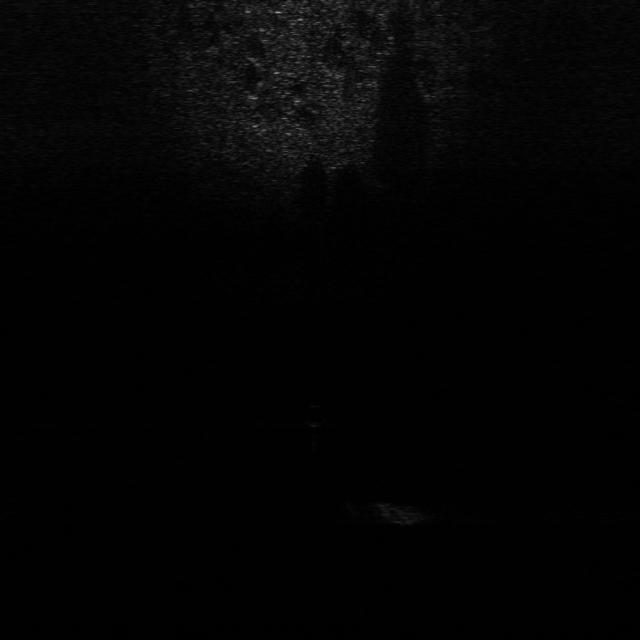ball: (300, 401, 330, 428)
metal bucket: (356, 497, 430, 528)
